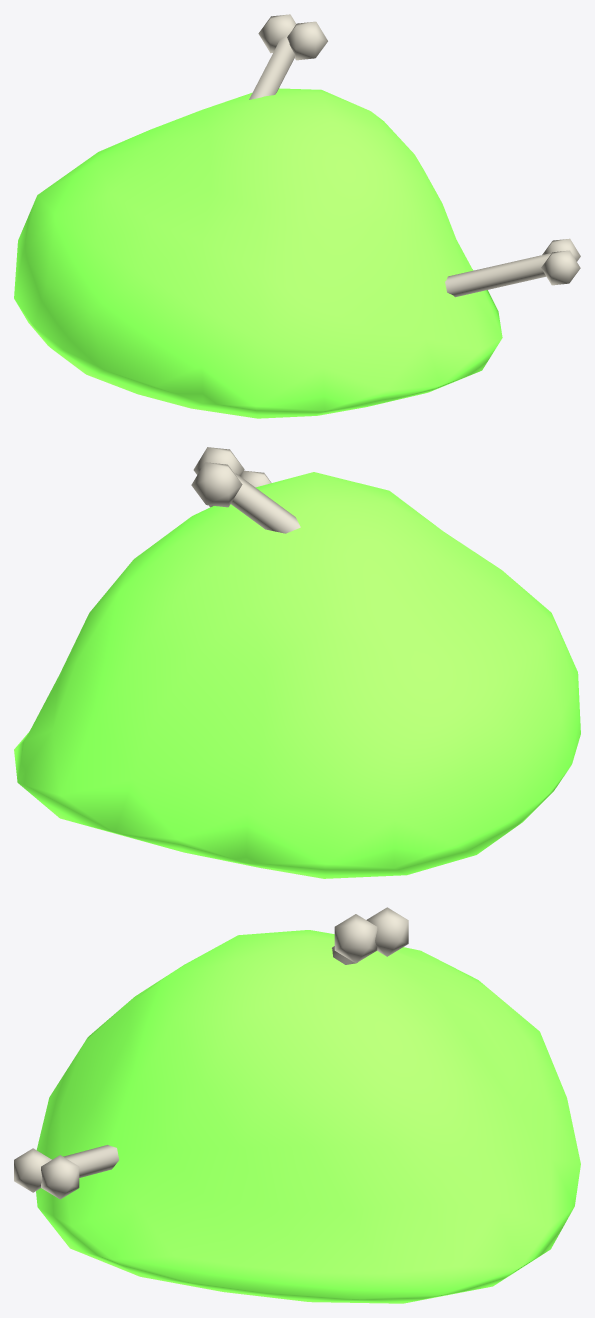
The model's file is slime.glb.
3 renders of one model, top to bottom at view 1: azimuth 30°, elevation 25°; view 2: azimuth 150°, elevation 25°; view 3: azimuth 270°, elevation 25°, orthographic. The views are drawn at different scales.
Visible parts, largest first — view 1: Body, Bones; view 2: Body, Bones; view 3: Body, Bones.
Part boxes in pixels (box(x1,y1,x2,y2)): Body: box(14, 88, 502, 418); Bones: box(249, 14, 580, 297); Body: box(14, 472, 580, 878); Bones: box(191, 447, 300, 533); Body: box(36, 930, 580, 1303); Bones: box(14, 907, 408, 1199).
Bounding box in the file's own units: 2.15 × 1.55 × 2.27.
